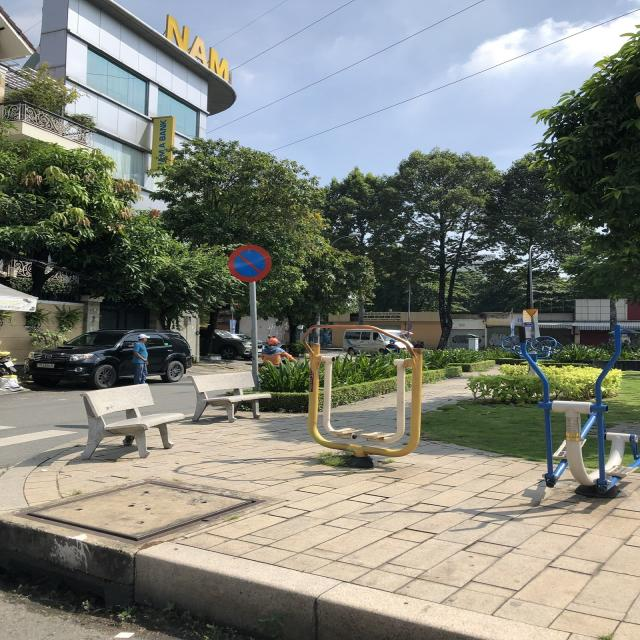Bien bao cam do xe: (224, 243, 276, 286)
